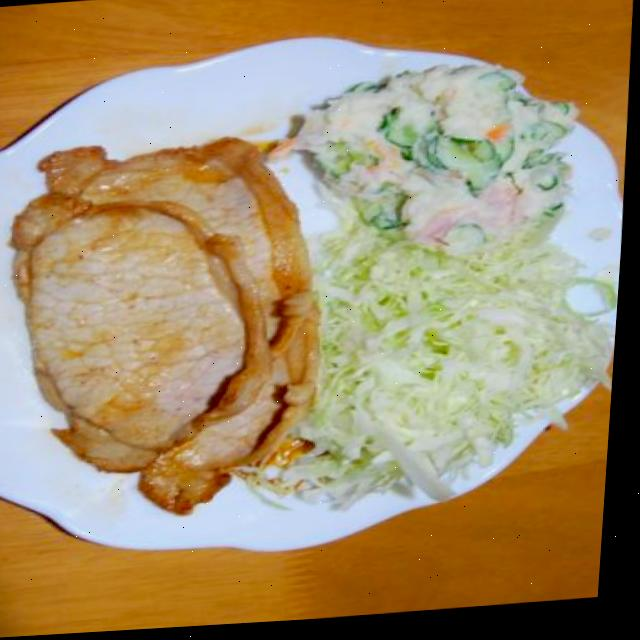猪肉菜式: (0, 14, 638, 585)
